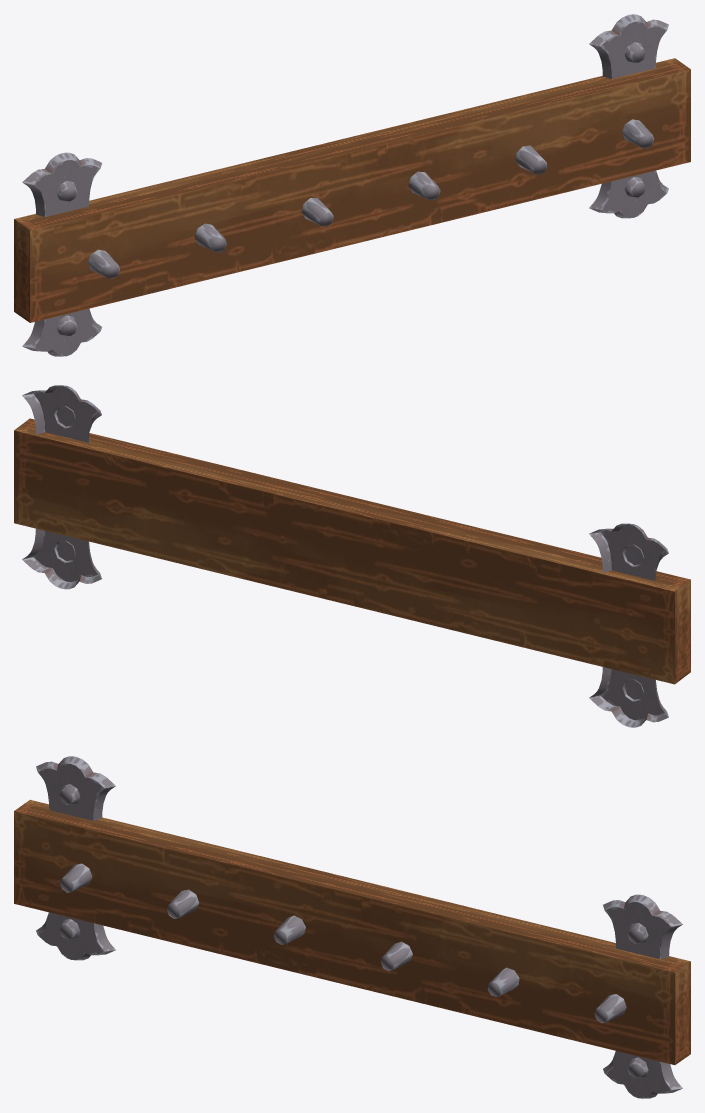
File: Peg_Rack.gltf
3 renders of one model, top to bottom at view 1: azimuth 30°, elevation 25°; view 2: azimuth 150°, elevation 25°; view 3: azimuth 330°, elevation 25°, orthographic.
Visible parts, largest first — view 1: Peg_Rack; view 2: Peg_Rack; view 3: Peg_Rack.
Boxes of the visible parts, <box> form: Peg_Rack: <box>14,14,690,356</box>; Peg_Rack: <box>14,385,690,727</box>; Peg_Rack: <box>14,756,690,1098</box>.
Size of the model in its own units: 1.18 by 0.3479 by 0.0957.
2 materials, 2 textured.
